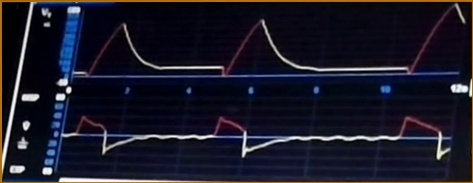Flow: (68, 109, 449, 171)
Leakage Volume: (80, 4, 465, 82)
